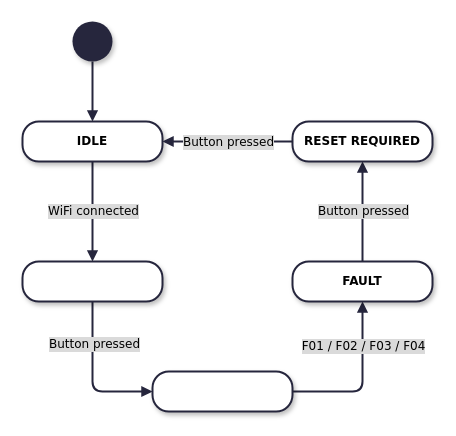
This 456x436 diagram has some shape labels left out. Here are the shapes that lost their labels. From the top down, the centre of each, then its label:
the point at 93,282: MANUAL
the point at 223,392: ONLINE
